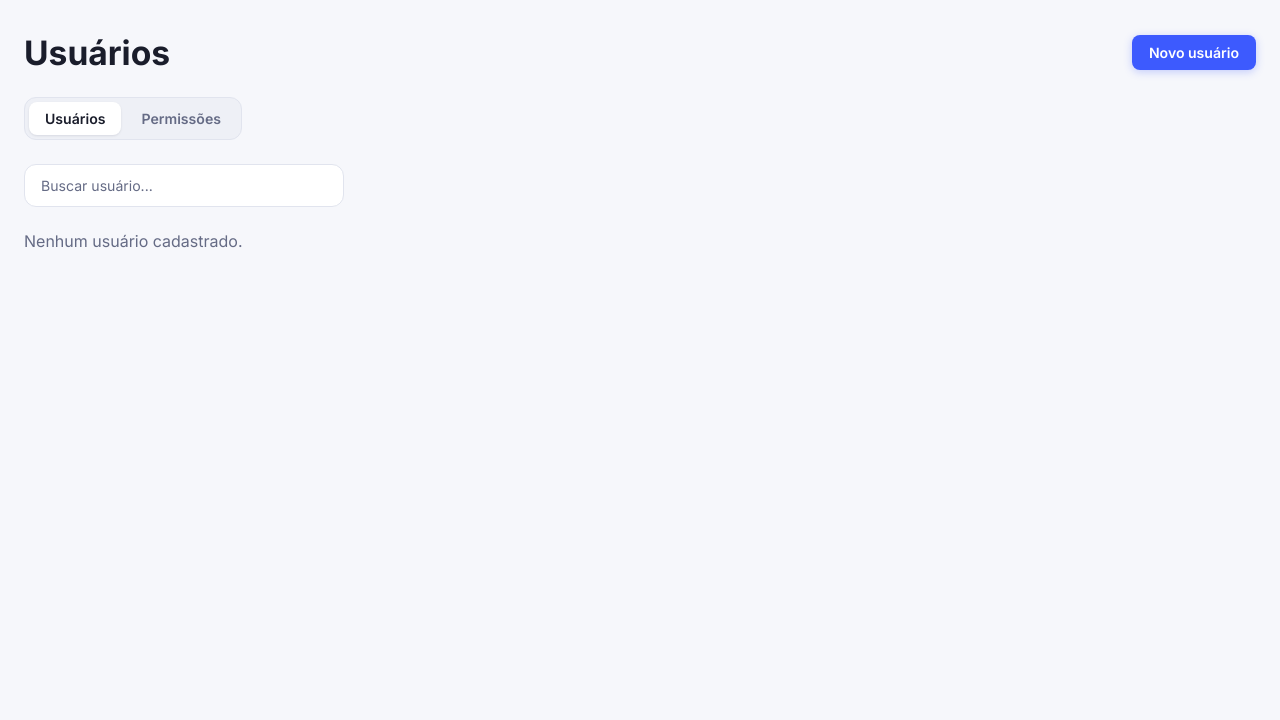
Test: UsersPage › blocks creating a user without a password
Click the button "Novo usuário". click: (1194, 52)
box: [1132,35,1256,70]
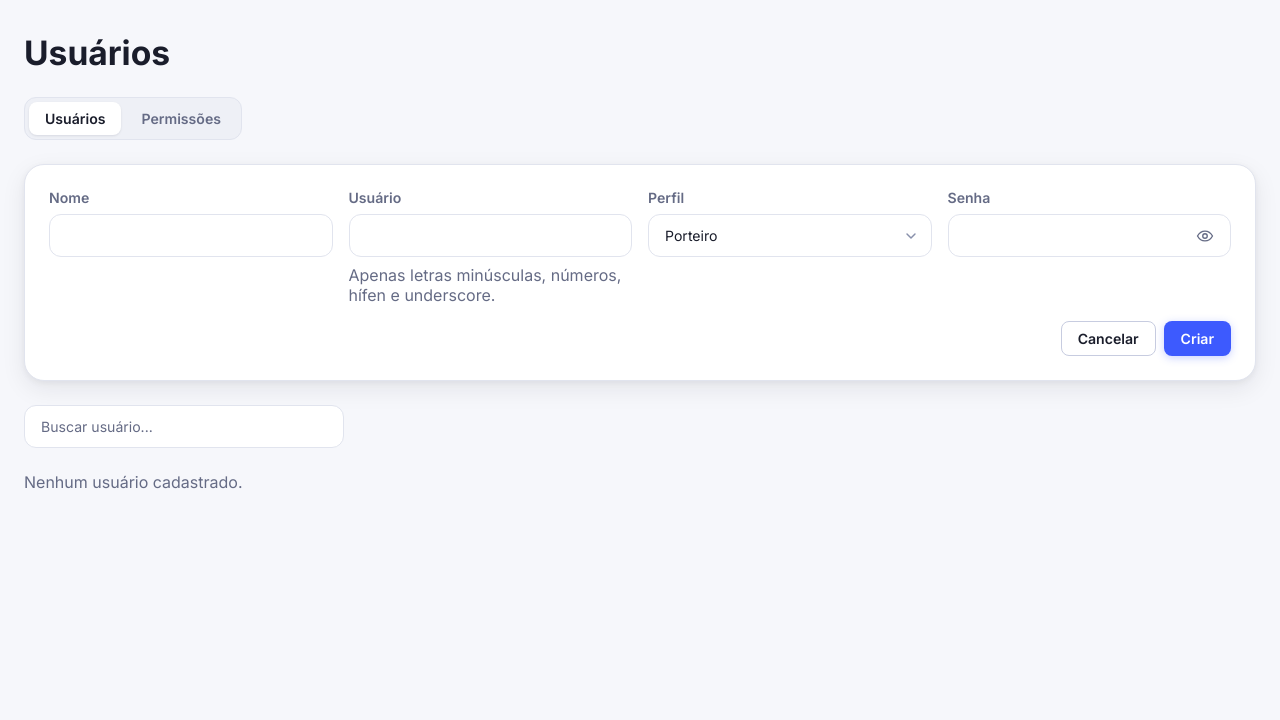
Type "Porteiro Dois" into the field labelled "Nome". click: (191, 236)
box: [49,214,332,257]
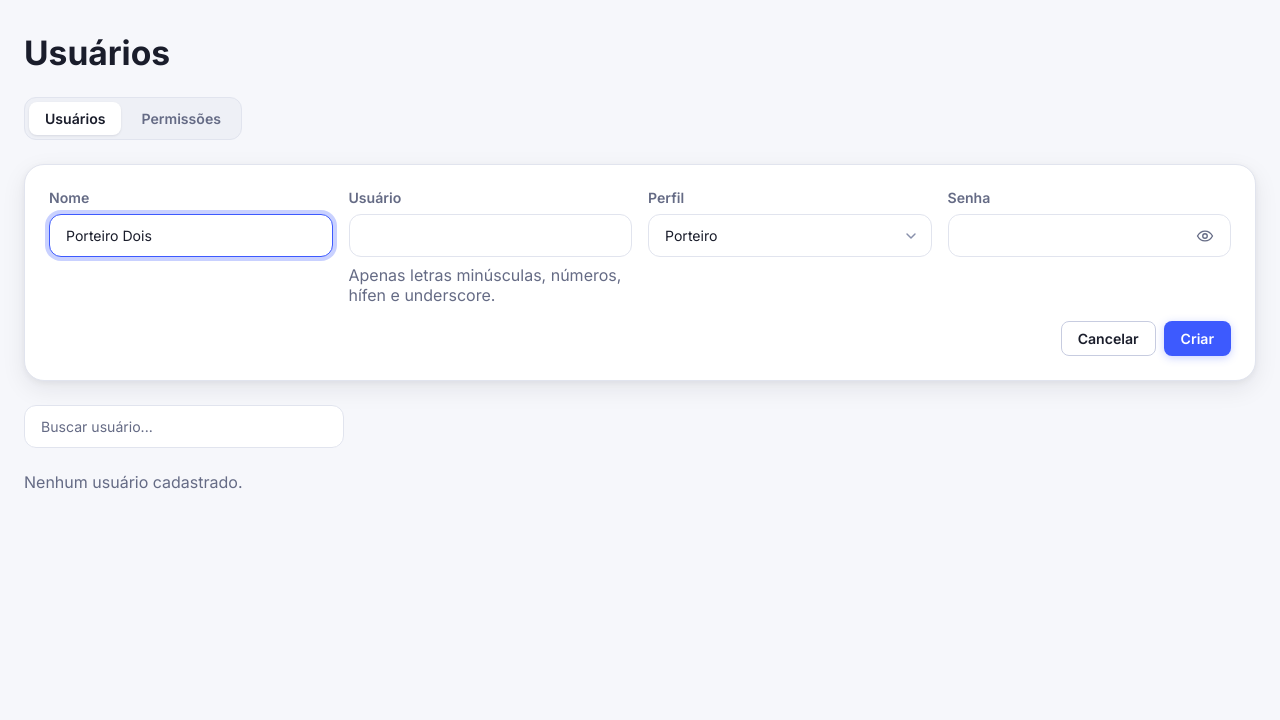
Type "porteiro2" into the field labelled "Usuário". click: (490, 236)
box: [348,214,632,257]
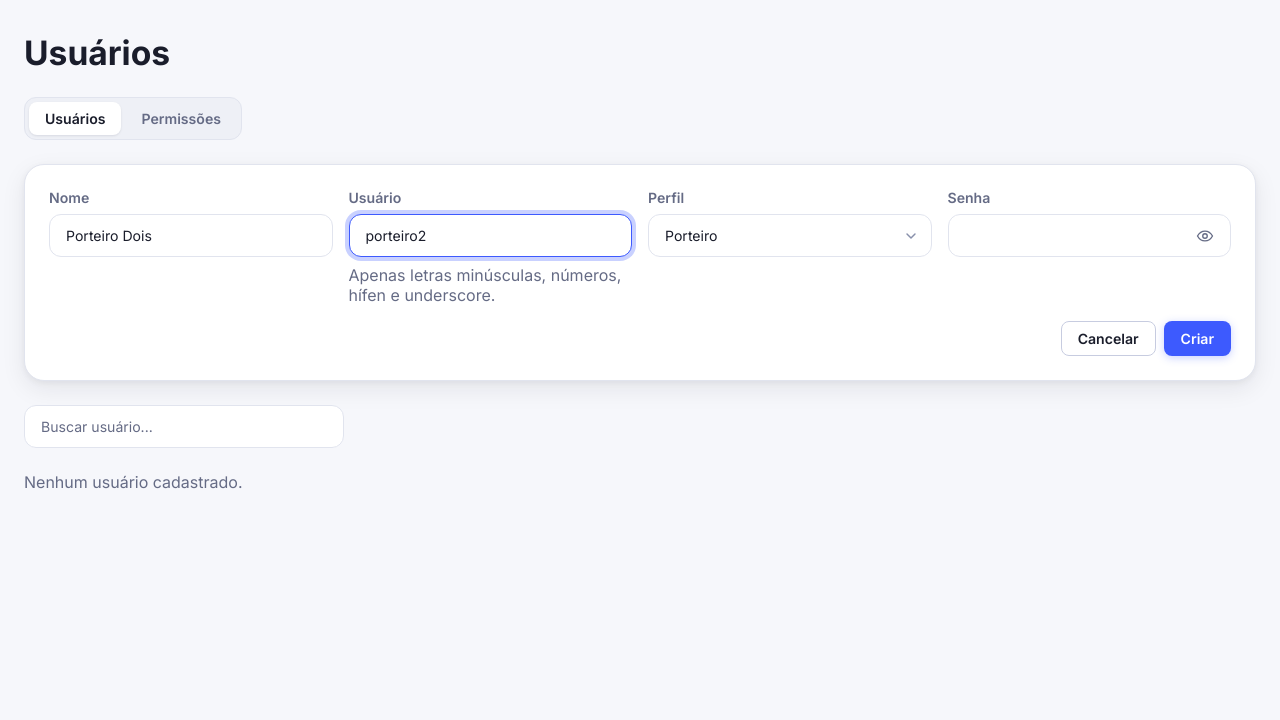
Click the button "Criar". click: (1197, 338)
box: [1164,321,1231,356]
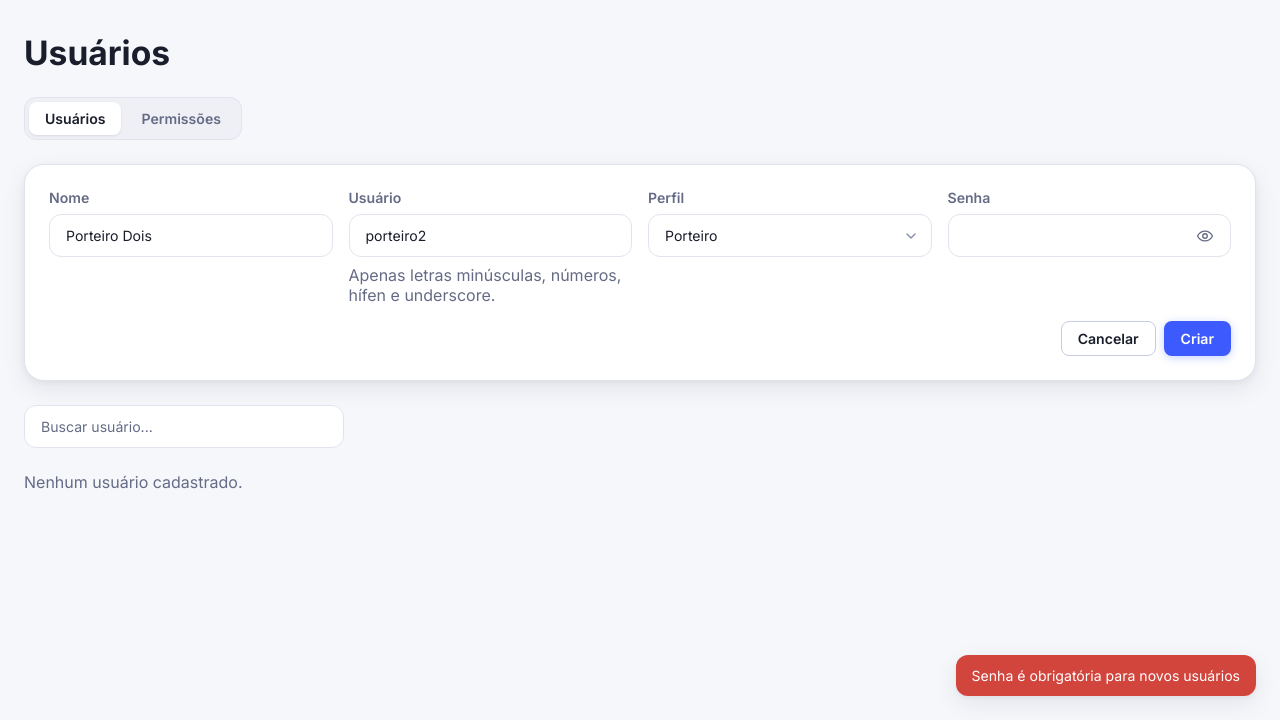
Now the text "Senha é obrigatória para novos usuários" is shown, box [956,655,1256,696]
